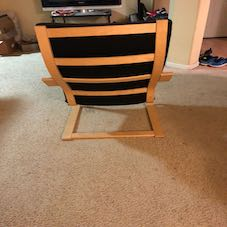chair: (26, 15, 186, 150)
